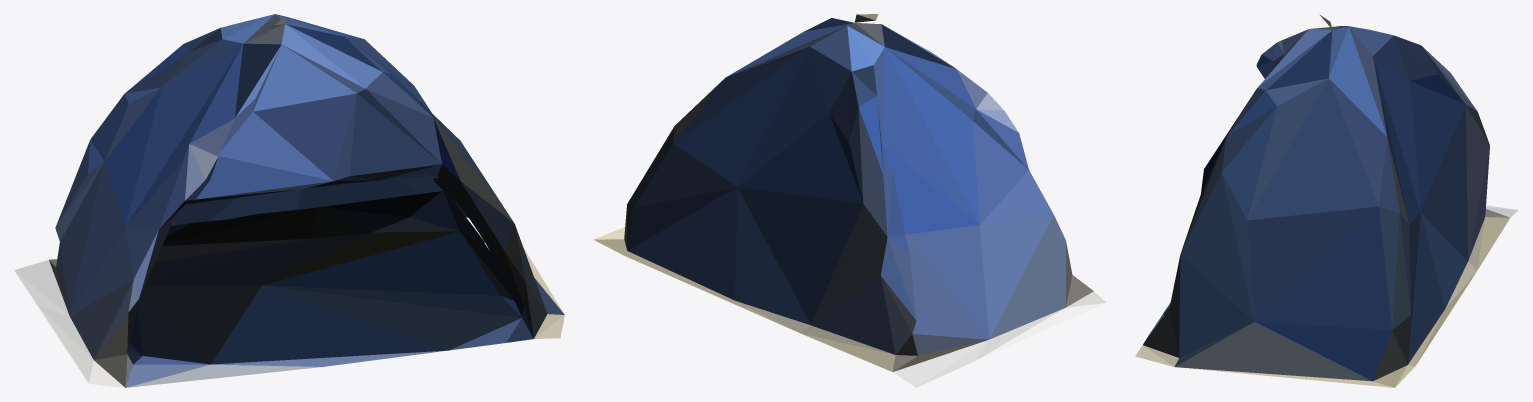
Rendered from tentedit.fbx.
3 renders of one model, left to right at view 1: azimuth 30°, elevation 25°; view 2: azimuth 150°, elevation 25°; view 3: azimuth 270°, elevation 25°, orthographic. The views are drawn at different scales.
Visible parts, largest first — view 1: Object001; view 2: Object001; view 3: Object001.
Part boxes in pixels (x1=…): Object001: x1=14, y1=14, x2=564, y2=387; Object001: x1=593, y1=14, x2=1106, y2=387; Object001: x1=1135, y1=14, x2=1518, y2=387.
Size of the model in its own units: 37.32 by 21.5 by 28.09.
1 material, 1 textured.
